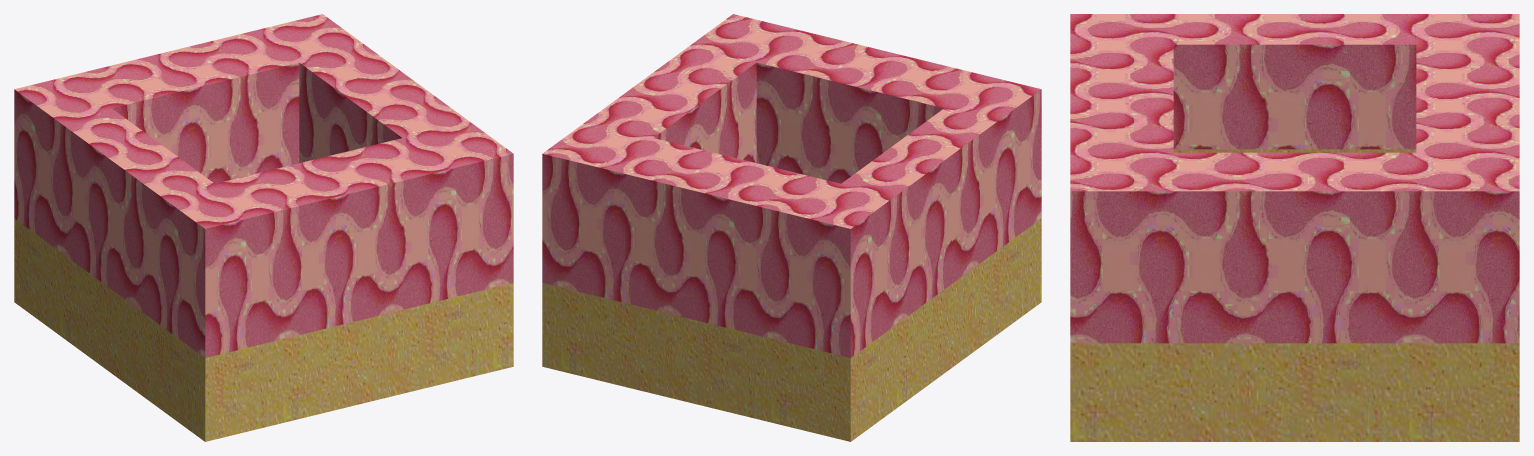
File: spaceDonut.dae
3 views of the same model, side by side, from view 1: azimuth 30°, elevation 25°; view 2: azimuth 150°, elevation 25°; view 3: azimuth 270°, elevation 25° (orthographic). The views are drawn at different scales.
Parts seen in each view (by area): view 1: SketchUp_001, SketchUp, SketchUp_004; view 2: SketchUp_001, SketchUp, SketchUp_004; view 3: SketchUp_001, SketchUp, SketchUp_004, SketchUp_003.
Boxes of the visible parts, x1,y1,x2,y2 form: SketchUp_001: (14, 14, 513, 357); SketchUp: (14, 218, 513, 441); SketchUp_004: (112, 62, 401, 183); SketchUp_001: (542, 14, 1041, 357); SketchUp: (542, 218, 1041, 441); SketchUp_004: (654, 62, 943, 183); SketchUp_001: (1070, 14, 1519, 343); SketchUp: (1070, 343, 1519, 441); SketchUp_004: (1173, 44, 1416, 149); SketchUp_003: (1173, 149, 1416, 152).
Bounding box in the file's own units: 0.4711 × 0.505 × 0.3108.
Materials: 2 (2 with a texture image).
